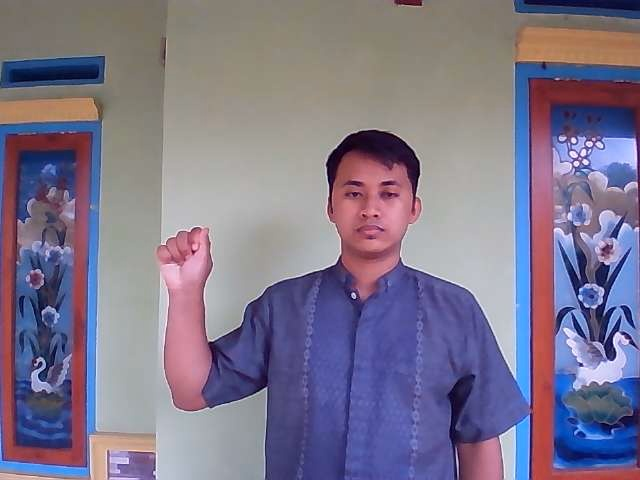A: (152, 220, 220, 309)
